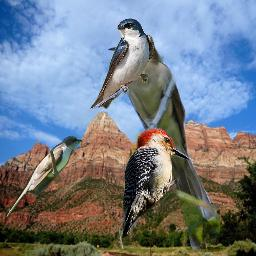Cuckoo: (107, 39, 220, 253), (5, 136, 82, 218)
Swallow: (90, 17, 155, 110)
Woodpecker: (122, 128, 193, 238)
